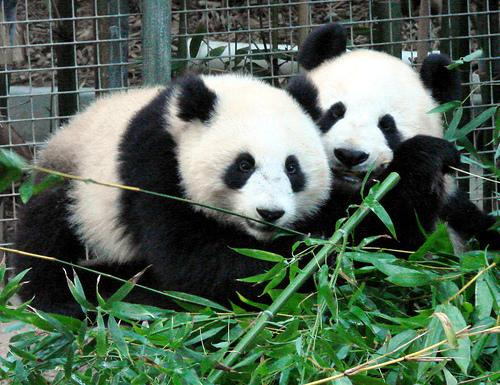panda: (13, 23, 499, 305), (13, 255, 80, 316), (77, 269, 122, 301), (126, 288, 172, 306), (356, 216, 387, 242)
